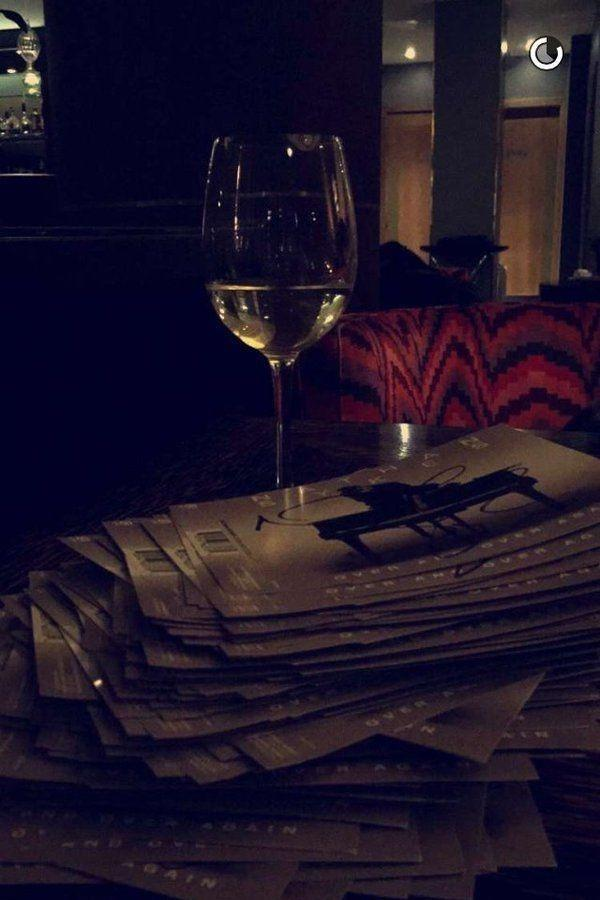glass-wine: (193, 121, 370, 502)
